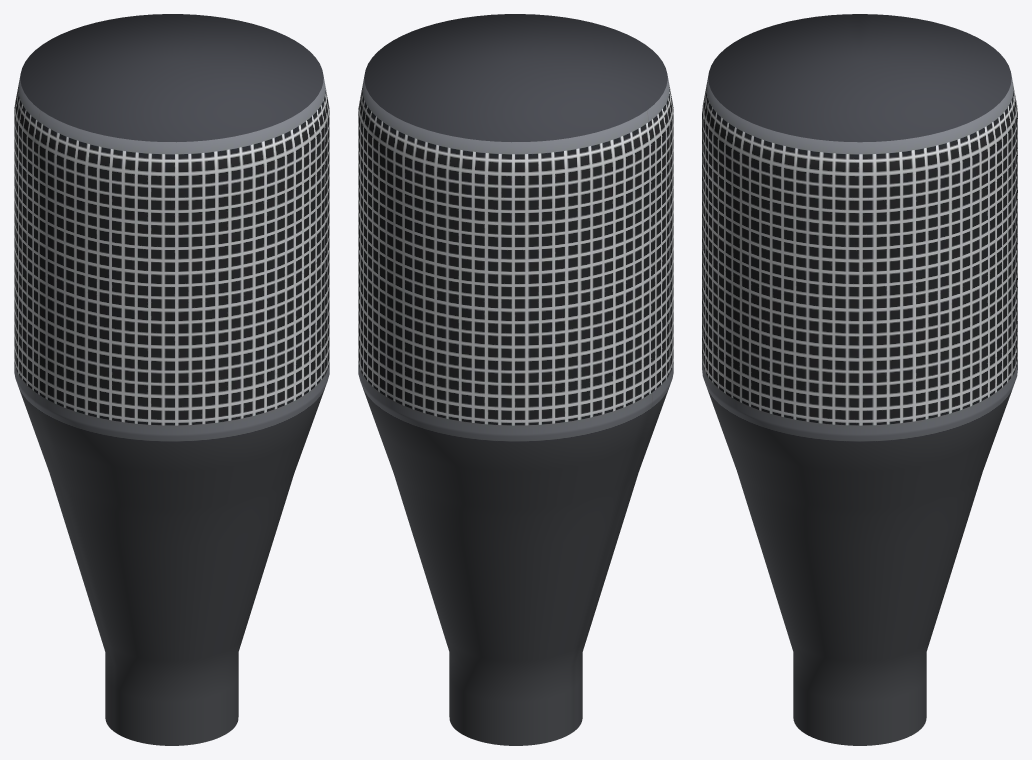
File: audix-d6.glb
The picture shows the model from 3 angles, left to right: view 1: azimuth 30°, elevation 25°; view 2: azimuth 150°, elevation 25°; view 3: azimuth 270°, elevation 25°; orthographic projection.
Visible parts, largest first — view 1: audix-d6-body; view 2: audix-d6-body; view 3: audix-d6-body.
Part boxes in pixels (x1=…): audix-d6-body: x1=14, y1=14, x2=329, y2=745; audix-d6-body: x1=358, y1=14, x2=673, y2=745; audix-d6-body: x1=702, y1=14, x2=1017, y2=745.
Size of the model in its own units: 0.051 by 0.117 by 0.051.
1 material, 1 textured.
